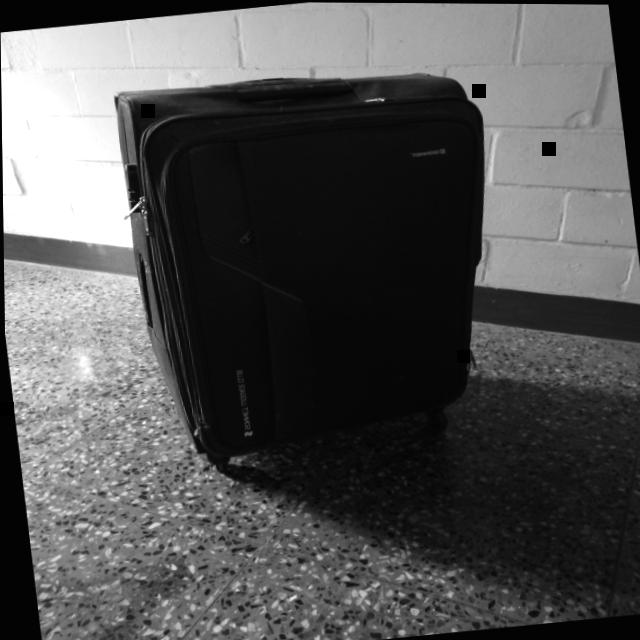luggage: (111, 72, 485, 474)
